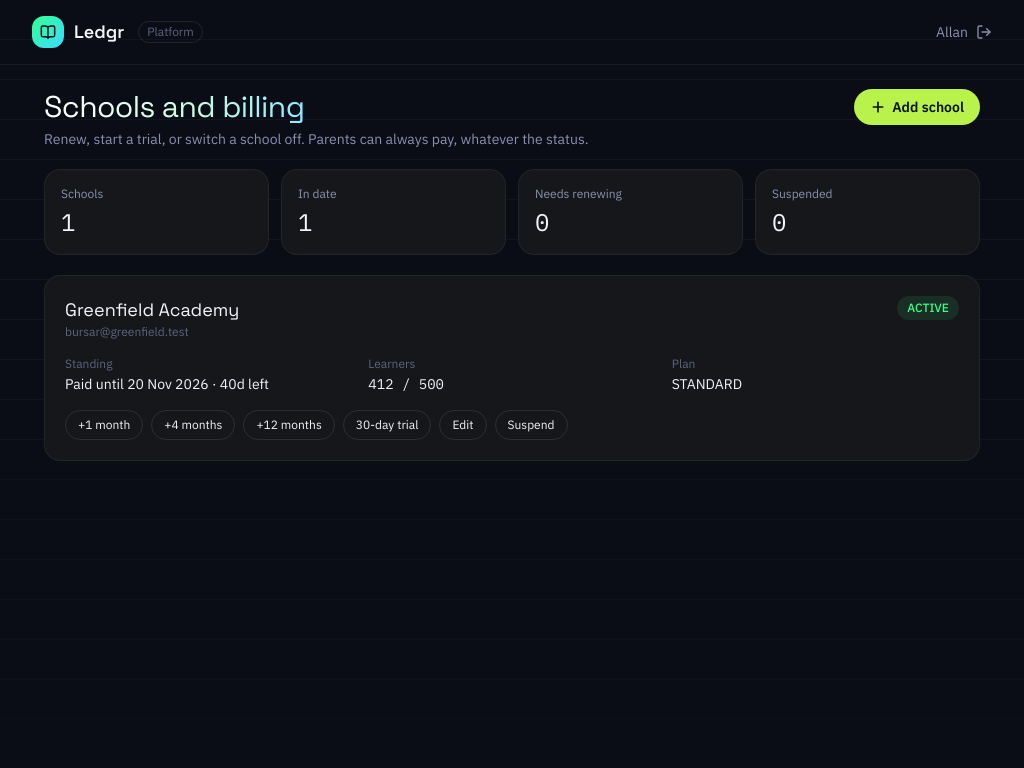
Test: PlatformPage › adds a school, shows it straight away and says the admin was emailed
Check: the heading "Greenfield Academy" is shown, box [65, 296, 239, 324]
Click the button "Add school" at (917, 107), box [854, 89, 980, 125]
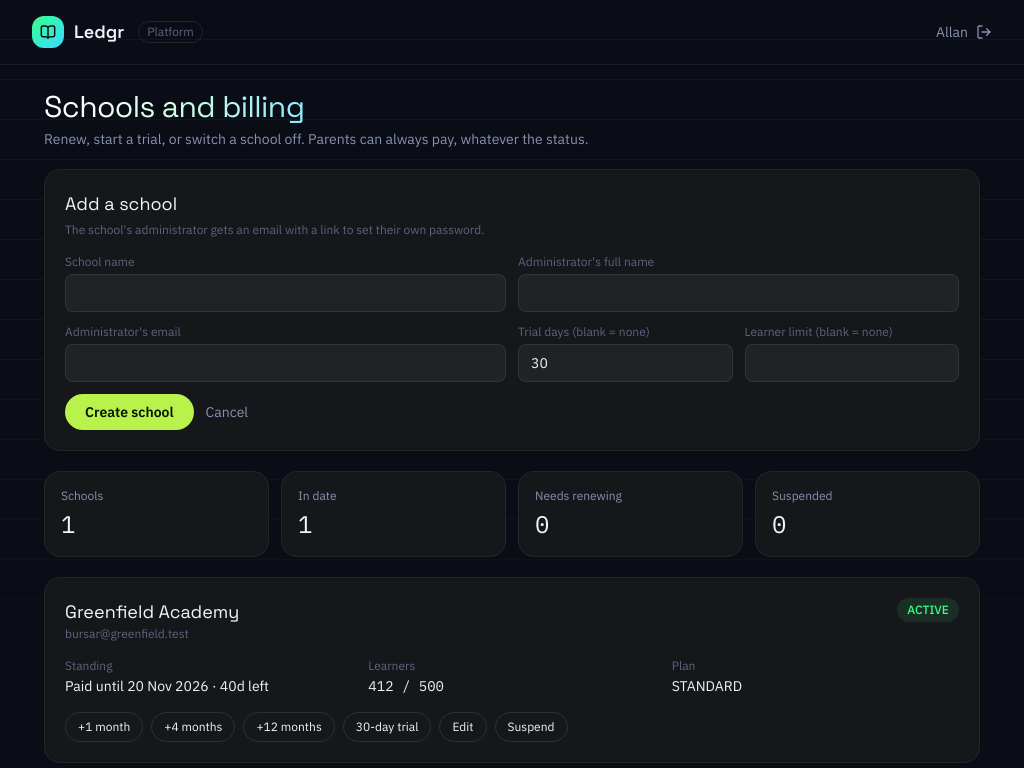
Type "  Brand New Academy " into the field labelled "School name" at (286, 293), box [65, 274, 506, 312]
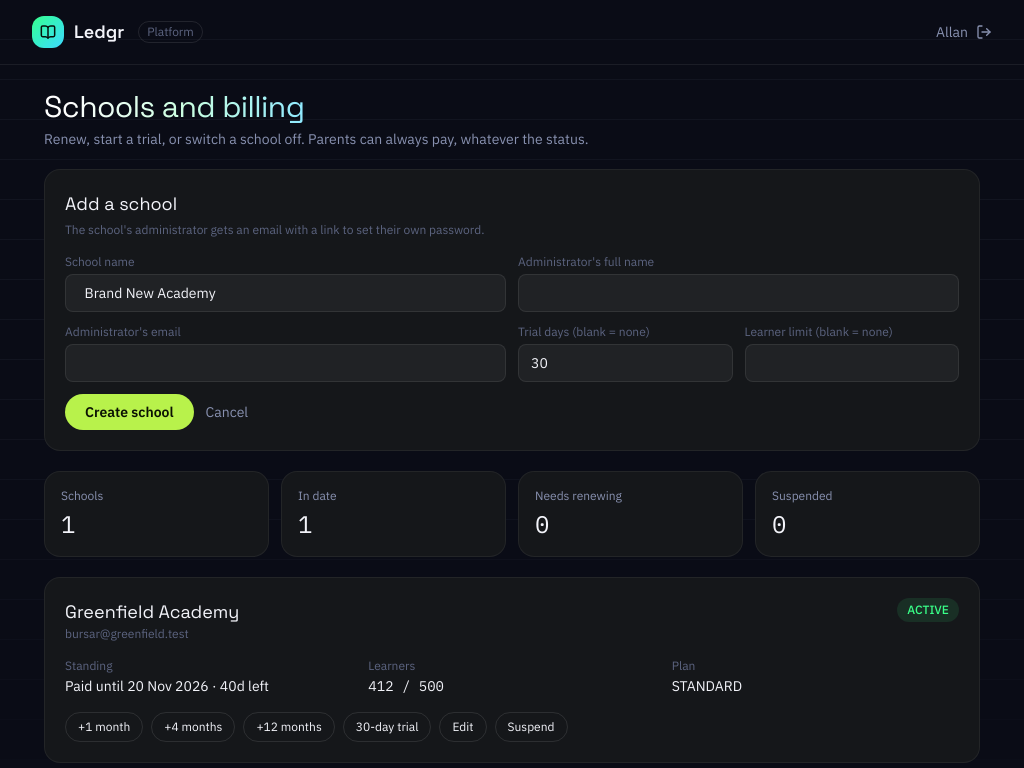
Type "Ada Admin" into the field labelled "Administrator's full name" at (738, 293), box [518, 274, 959, 312]
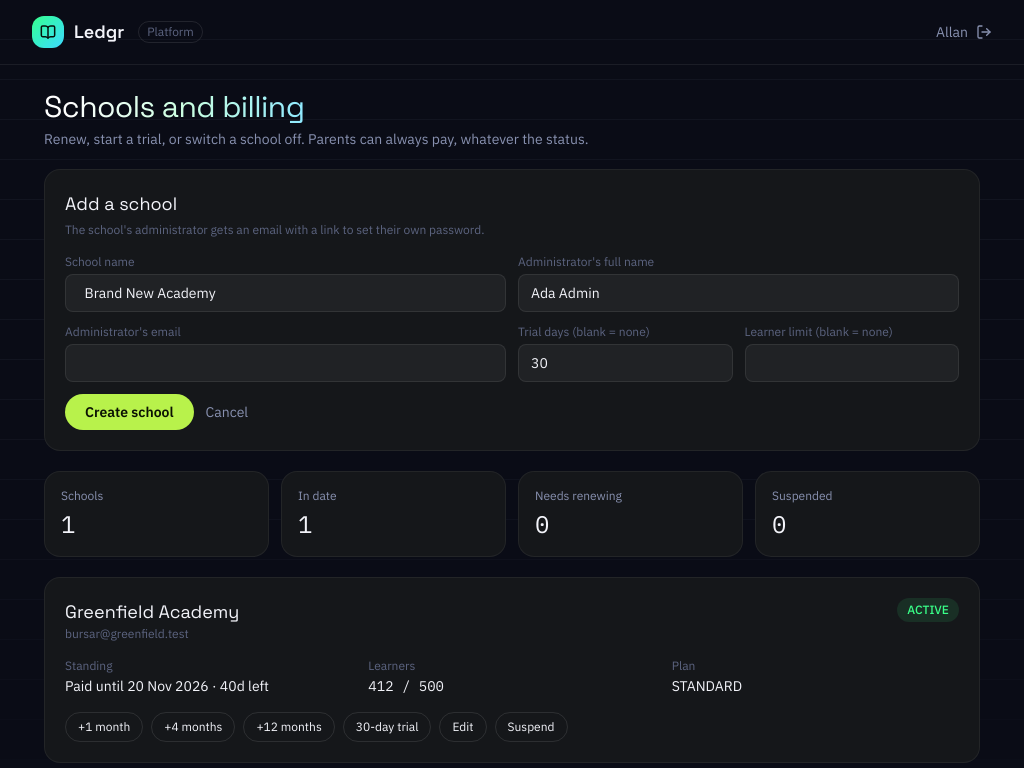
Type "ada@newschool.test" into the field labelled "Administrator's email" at (286, 363), box [65, 344, 506, 382]
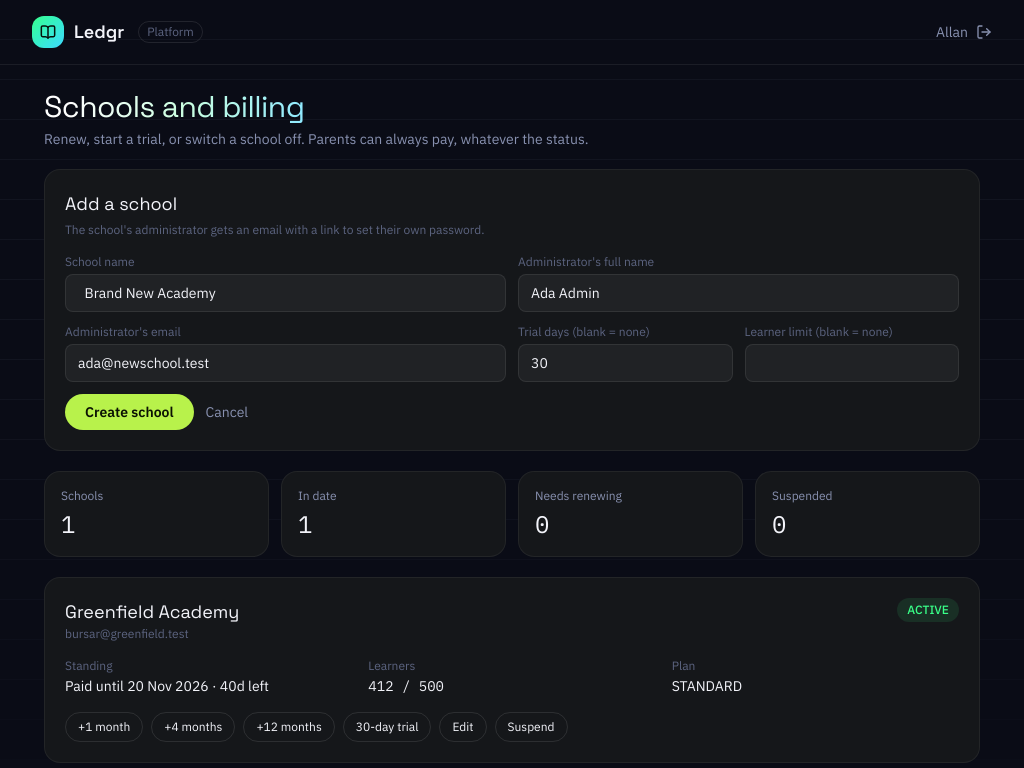
Type "150" into the number field labelled "Learner limit (blank = none)" at (852, 363), box [744, 344, 959, 382]
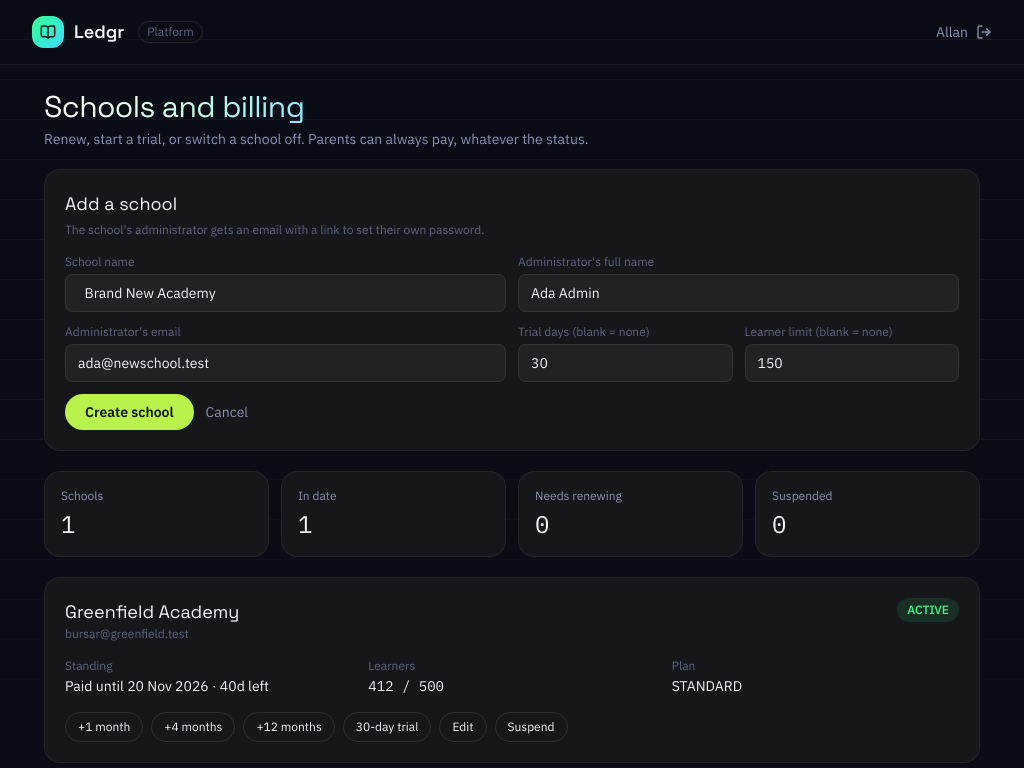
Click the button "Create school" at (129, 412), box [65, 394, 194, 430]
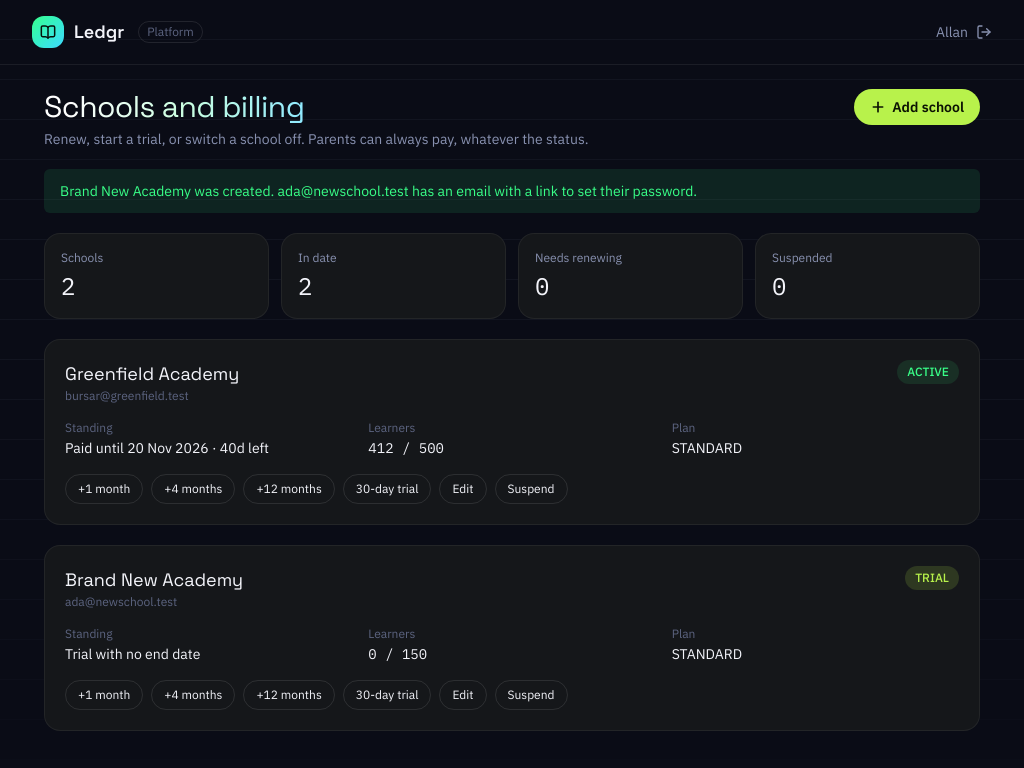
Check: the heading "Brand New Academy" is shown, box [65, 566, 243, 594]
Check: the message shows "ada@newschool.test has an email", box [60, 182, 697, 200]
Check: the button "Create school" is gone
